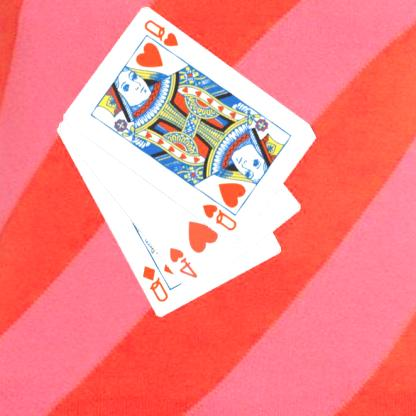4H: (168, 245, 201, 280)
QD: (140, 263, 172, 304)
QH: (143, 17, 182, 59), (201, 201, 241, 233)
